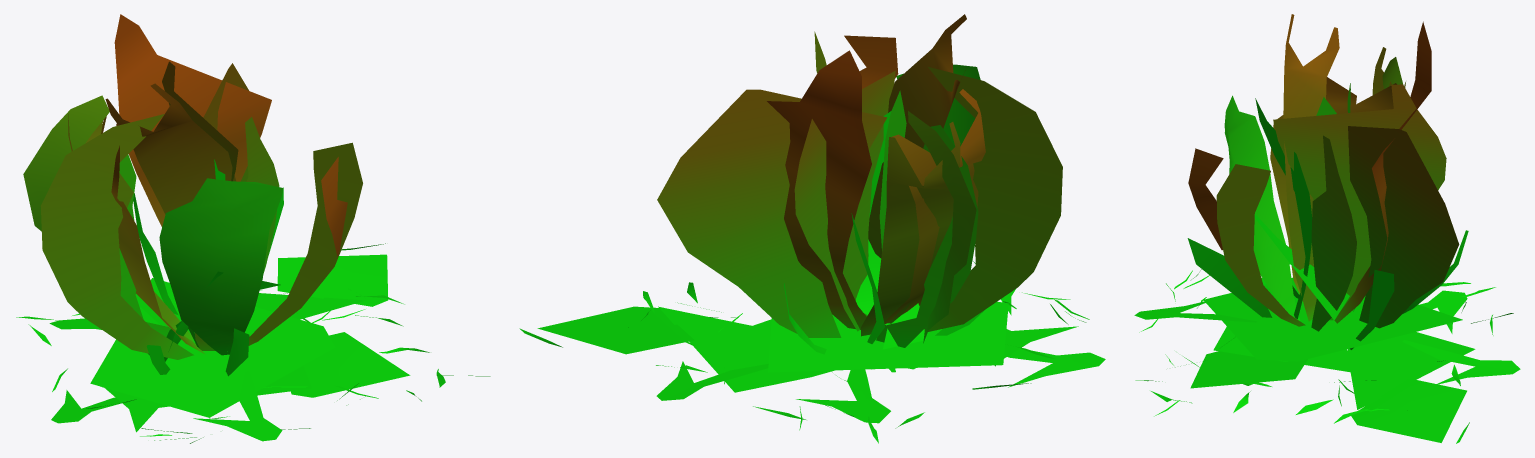
File: Dead Shrubs_LOD1_Var4_vdknafgha.fbx
3 views of the same model, side by side, from view 1: azimuth 30°, elevation 25°; view 2: azimuth 150°, elevation 25°; view 3: azimuth 270°, elevation 25° (orthographic). The views are drawn at different scales.
Visible parts, largest first — view 1: _o4iy_Var4_LOD1; view 2: _o4iy_Var4_LOD1; view 3: _o4iy_Var4_LOD1.
Part boxes in pixels (x1,y1,x2,y2): _o4iy_Var4_LOD1: (16, 14, 490, 443); _o4iy_Var4_LOD1: (519, 14, 1105, 443); _o4iy_Var4_LOD1: (1134, 14, 1520, 443).
Size of the model in its own units: 72.58 by 52.57 by 59.66.
